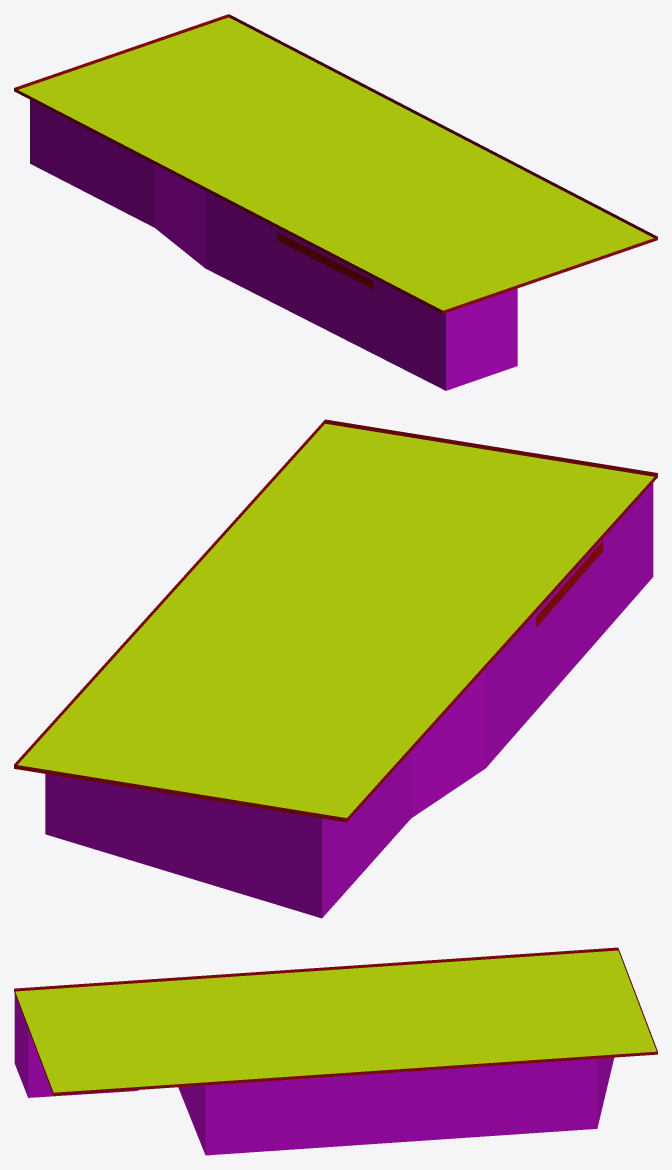
The model's file is niv_24.glb.
The picture shows the model from 3 angles, top to bottom: view 1: azimuth 30°, elevation 25°; view 2: azimuth 150°, elevation 25°; view 3: azimuth 270°, elevation 25°; orthographic projection. The views are drawn at different scales.
Visible parts, largest first — view 1: niv_24; view 2: niv_24; view 3: niv_24.
Part boxes in pixels (x1,y1,x2,y2): niv_24: (14,14,657,390); niv_24: (14,419,657,918); niv_24: (14,947,657,1155).
Size of the model in its own units: 36.43 by 8.55 by 68.28.
